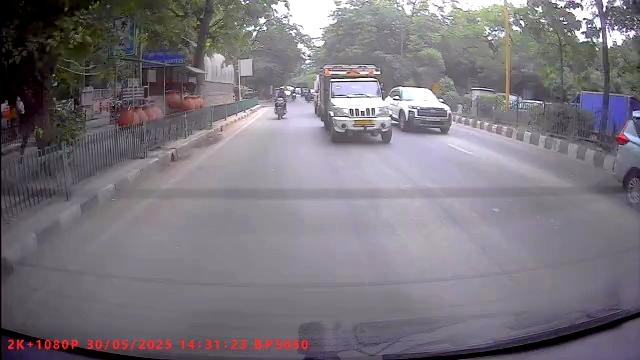motorcycle_with_helmet: (274, 85, 289, 120)
